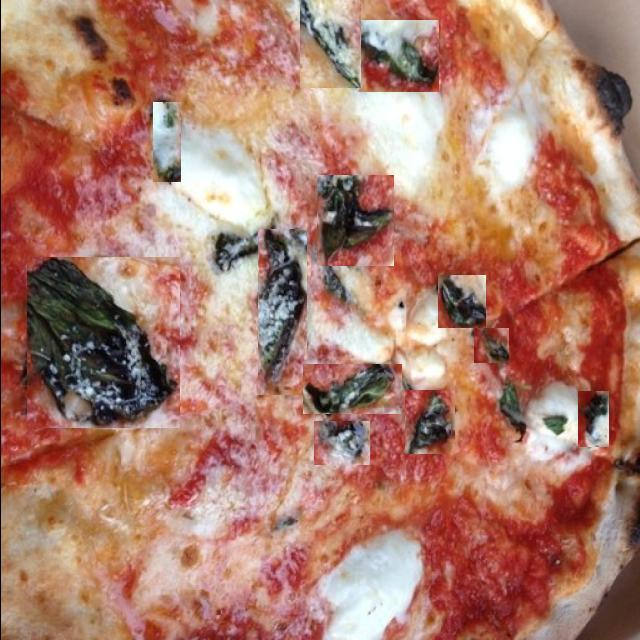basil: (26, 257, 179, 428), (257, 229, 306, 395), (314, 175, 392, 266), (356, 20, 438, 92), (299, 0, 360, 88), (302, 364, 401, 414), (214, 208, 280, 272), (404, 390, 454, 454), (437, 275, 485, 328), (313, 421, 369, 465), (152, 102, 180, 182), (498, 380, 533, 442), (577, 391, 608, 447), (473, 328, 508, 363), (271, 512, 298, 536), (540, 414, 569, 434)
pizza: (0, 1, 640, 640)
